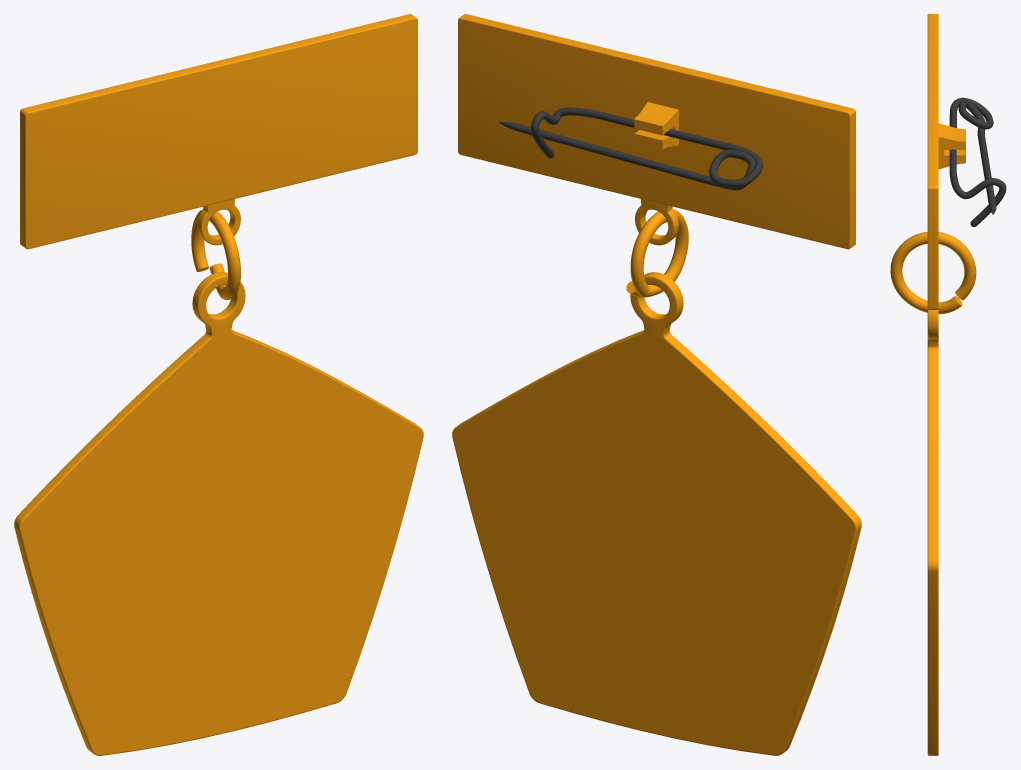
File: Otlichnik kachestva.fbx
3 renders of one model, left to right at view 1: azimuth 30°, elevation 25°; view 2: azimuth 150°, elevation 25°; view 3: azimuth 270°, elevation 25°, orthographic. The views are drawn at different scales.
Visible parts, largest first — view 1: Rectangle001, Rectangle002, Circle001, Object001; view 2: Rectangle001, Rectangle002, click, Circle001, Object002, Object001; view 3: Rectangle001, Rectangle002, click, Circle001, Object002.
Boxes of the visible parts, x1,y1,x2,y2 form: Rectangle001: [14, 272, 423, 755]; Rectangle002: [20, 14, 417, 249]; Circle001: [191, 209, 240, 300]; Object001: [197, 199, 240, 245]; Rectangle001: [452, 272, 861, 755]; Rectangle002: [458, 14, 855, 249]; click: [499, 107, 762, 190]; Circle001: [626, 209, 688, 297]; Object002: [634, 102, 678, 149]; Object001: [635, 199, 678, 245]; Rectangle001: [927, 310, 938, 755]; Rectangle002: [927, 14, 938, 309]; click: [949, 97, 1006, 226]; Circle001: [890, 232, 976, 314]; Object002: [938, 123, 965, 169].
Size of the model in its own units: 381 by 602 by 104.
